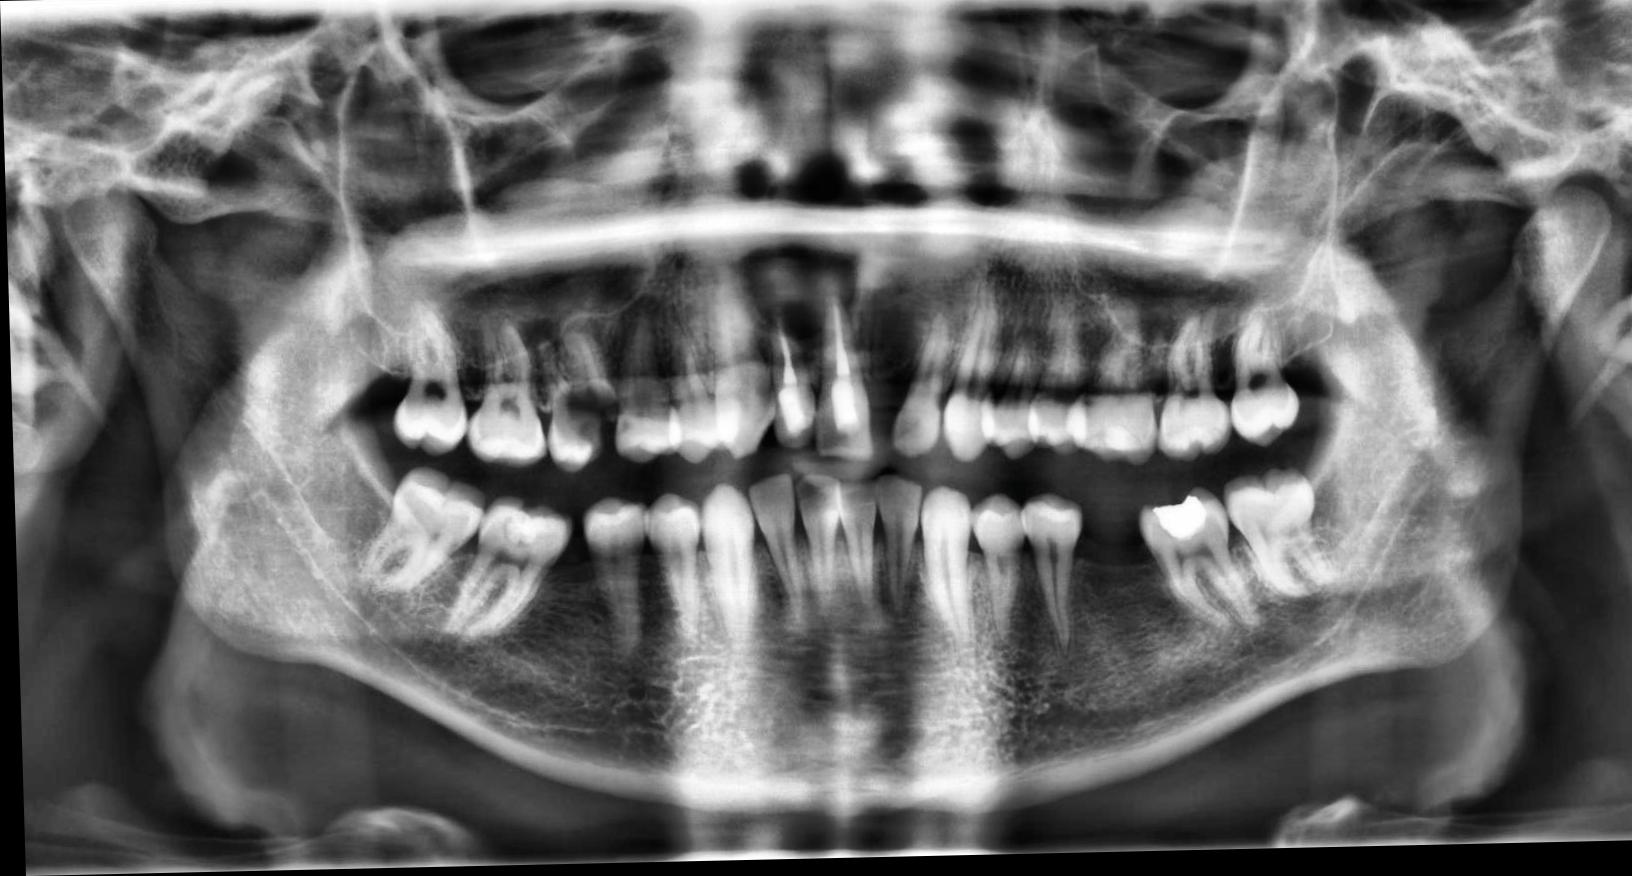radicular: (724, 229, 862, 358)
